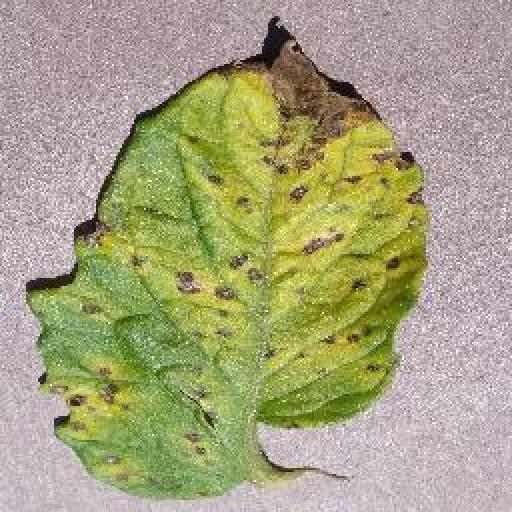Septoria: (31, 26, 428, 502)
